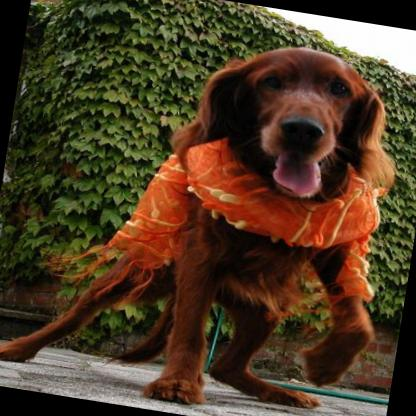Irish_setter: (0, 4, 415, 416)
